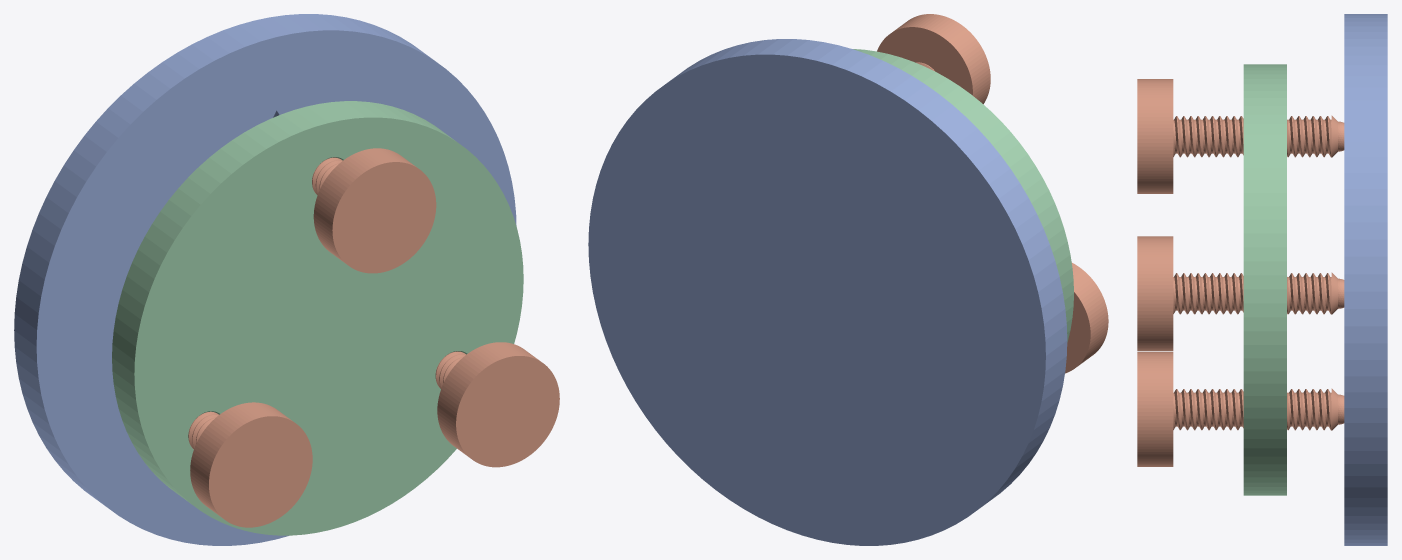
File: three_point_leveller_demo.glb
3 renders of one model, left to right at view 1: azimuth 30°, elevation 25°; view 2: azimuth 150°, elevation 25°; view 3: azimuth 270°, elevation 25°, orthographic. The views are drawn at different scales.
Visible parts, largest first — view 1: leveller_table, leveller_base, leveller_screws; view 2: leveller_base, leveller_screws, leveller_table; view 3: leveller_screws, leveller_base, leveller_table.
Part boxes in pixels (bbox=[...]): leveller_table: bbox=[112, 101, 523, 535]; leveller_base: bbox=[14, 14, 516, 545]; leveller_screws: bbox=[188, 148, 559, 527]; leveller_base: bbox=[588, 39, 1067, 545]; leveller_screws: bbox=[877, 14, 1108, 373]; leveller_table: bbox=[853, 49, 1073, 342]; leveller_screws: bbox=[1137, 79, 1344, 466]; leveller_base: bbox=[1344, 14, 1387, 545]; leveller_table: bbox=[1243, 64, 1286, 495].
Bounding box in the file's own units: 74 × 74 × 34.77.
